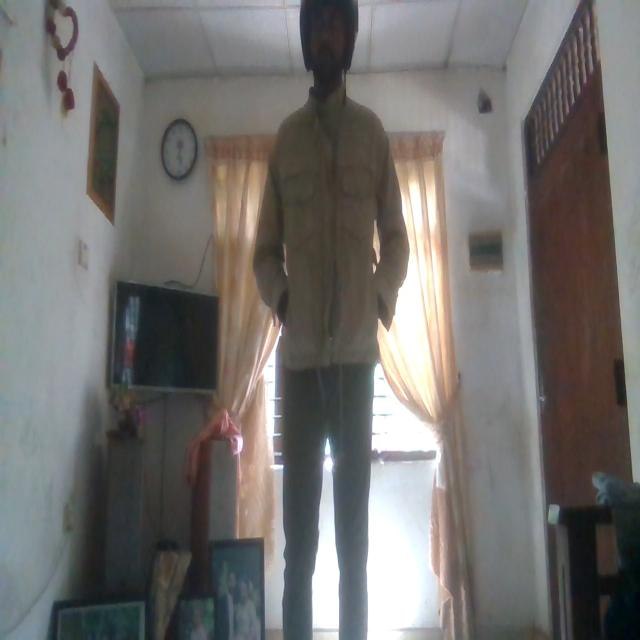Helmet_Wearer: (299, 4, 361, 90)
Jacket_Wearer: (258, 97, 413, 396)
Person: (251, 5, 412, 640)
